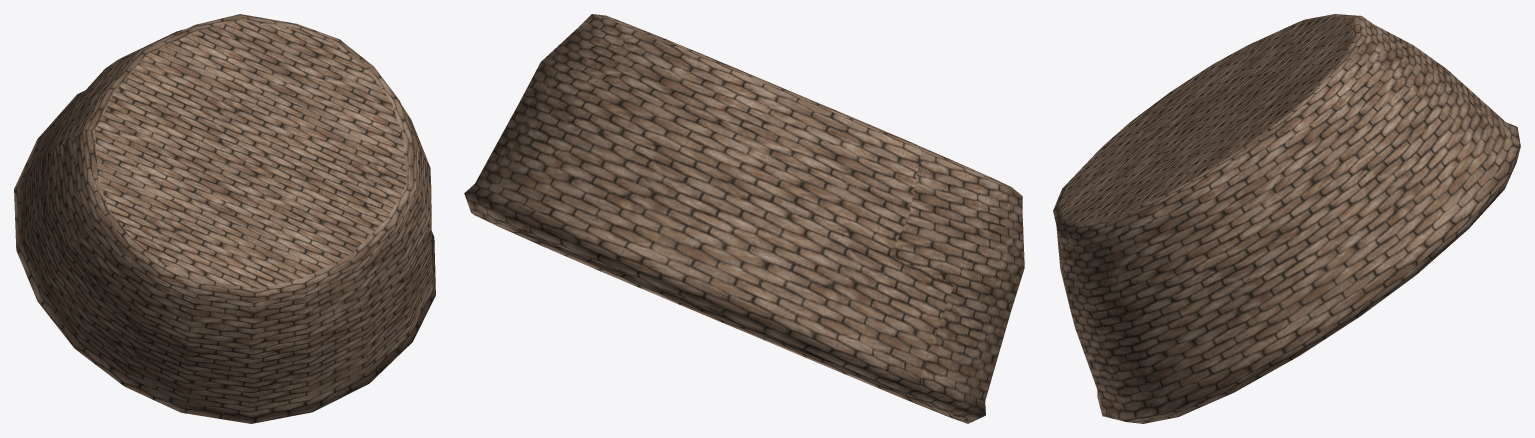
File: Wicker_Basket_02_03.glb
3 views of the same model, side by side, from view 1: azimuth 30°, elevation 25°; view 2: azimuth 150°, elevation 25°; view 3: azimuth 270°, elevation 25° (orthographic). The views are drawn at different scales.
Parts seen in each view (by area): view 1: Wicker_Basket_02_03; view 2: Wicker_Basket_02_03; view 3: Wicker_Basket_02_03.
Boxes of the visible parts, x1,y1,x2,y2 form: Wicker_Basket_02_03: (14, 14, 435, 423); Wicker_Basket_02_03: (464, 14, 1024, 423); Wicker_Basket_02_03: (1053, 14, 1520, 423).
Size of the model in its own units: 0.648 by 0.5411 by 0.6202.
Materials: 1 (1 with a texture image).
